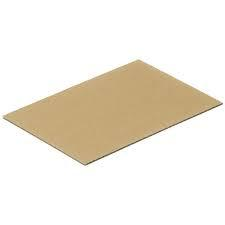cardboard: (1, 58, 222, 164)
